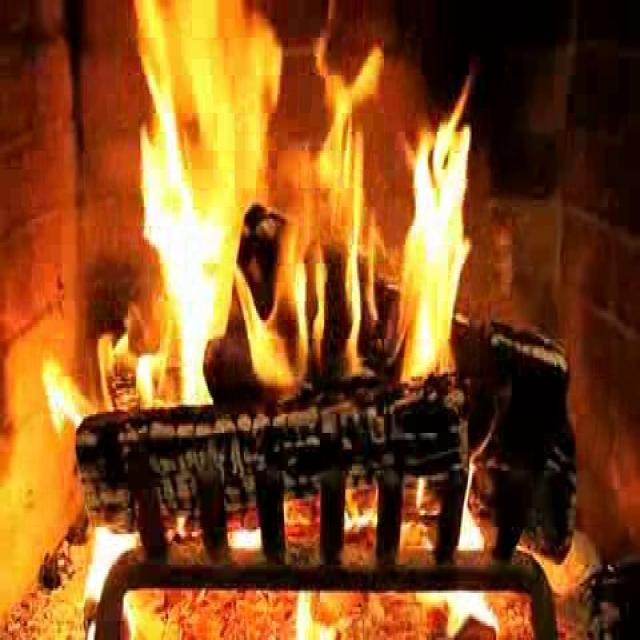fire: (116, 0, 483, 419)
